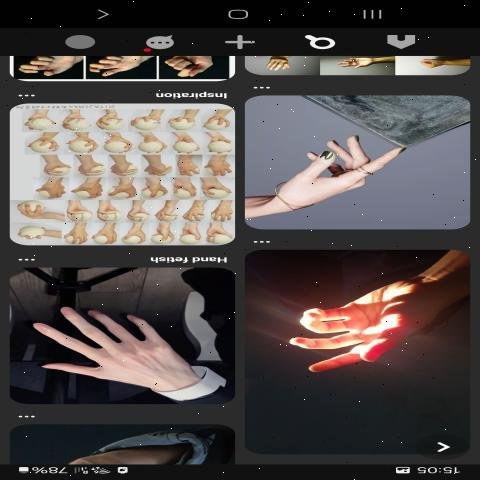Hands: (264, 262, 446, 414), (24, 292, 205, 402), (253, 125, 416, 232)
